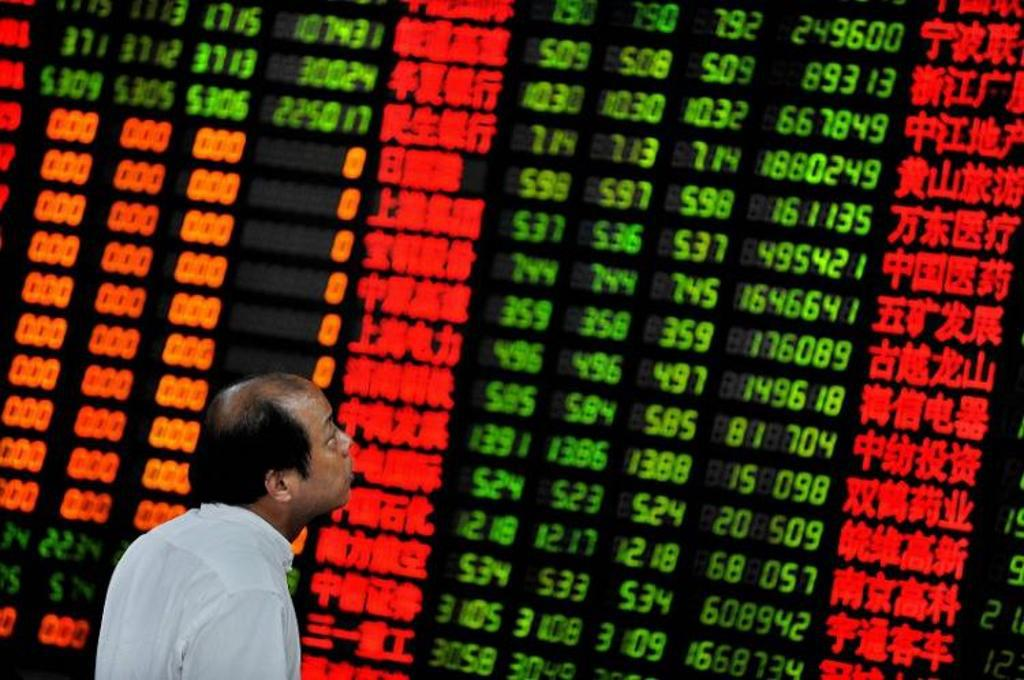face: (287, 387, 353, 509)
